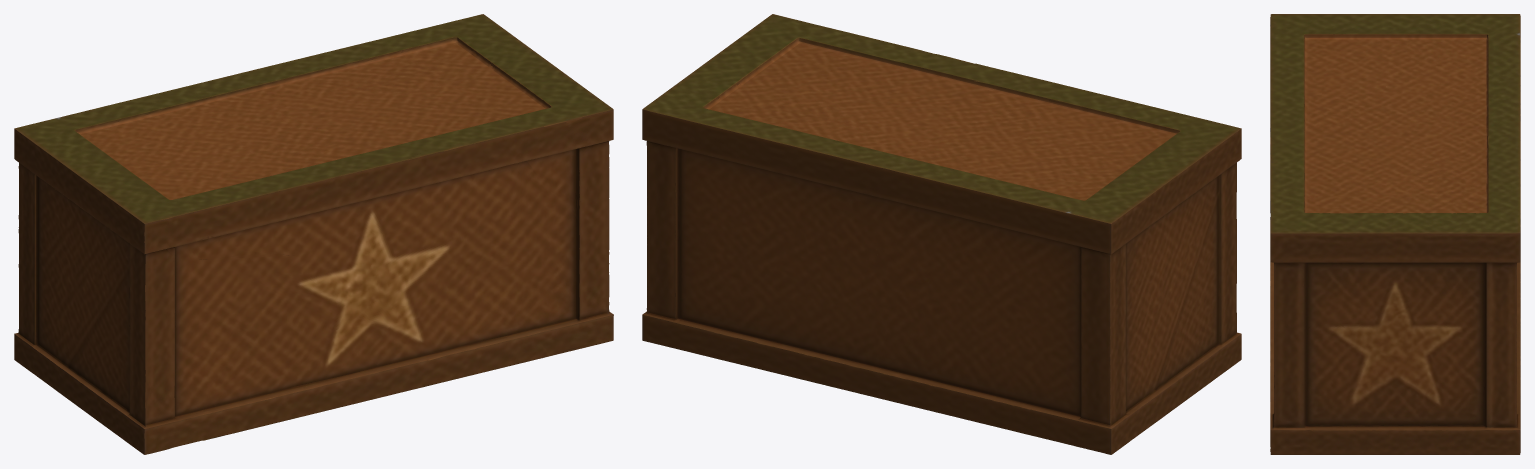
Rendered from caja.glb.
The picture shows the model from 3 angles, left to right: view 1: azimuth 30°, elevation 25°; view 2: azimuth 150°, elevation 25°; view 3: azimuth 270°, elevation 25°; orthographic projection. The views are drawn at different scales.
Bounding box in the file's own units: 1.9 × 0.8954 × 0.915.
Materials: 1 (1 with a texture image).
